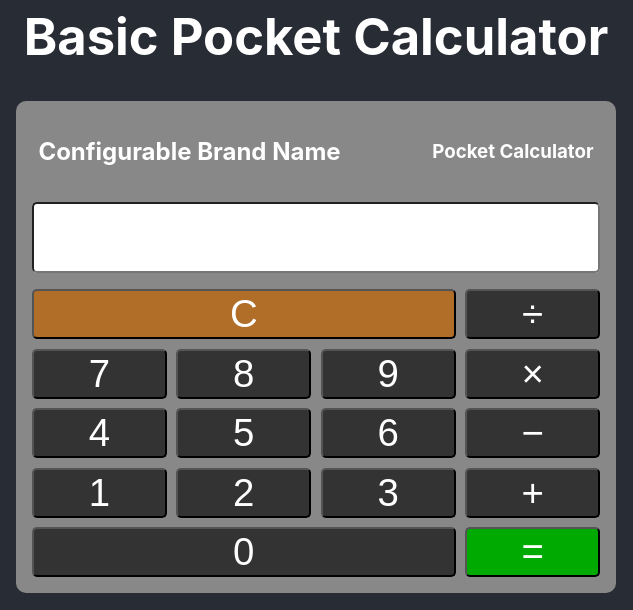
it: Calculator › should be able to perform a correct calculation: 1+1=2
Click the button with test id "One" at [100, 493], box [32,468,167,518]
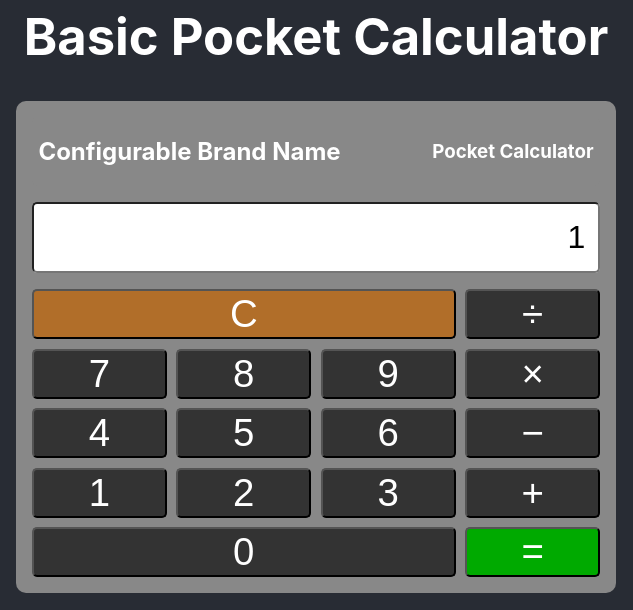
Click the button with test id "Add" at [533, 493], box [465,468,600,518]
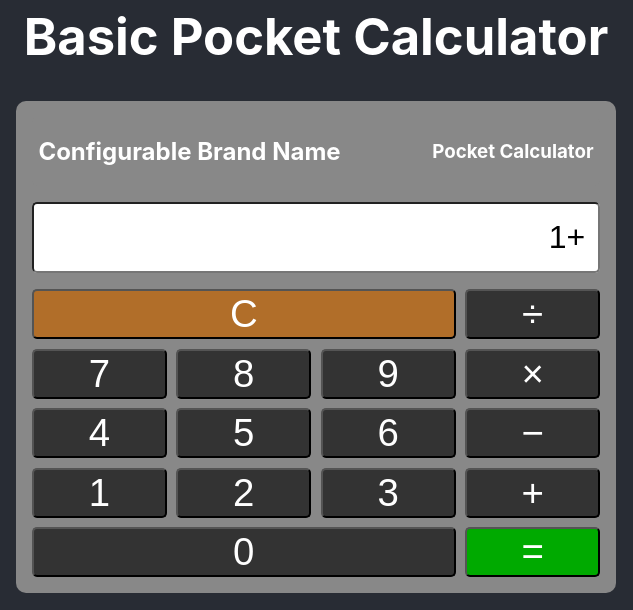
Click the button with test id "One" at [100, 493], box [32,468,167,518]
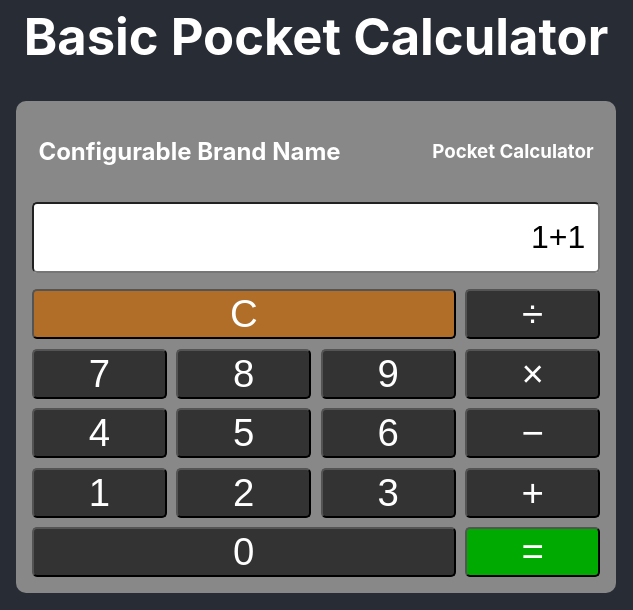
Click the button with test id "Equal" at [533, 552], box [465,527,600,577]
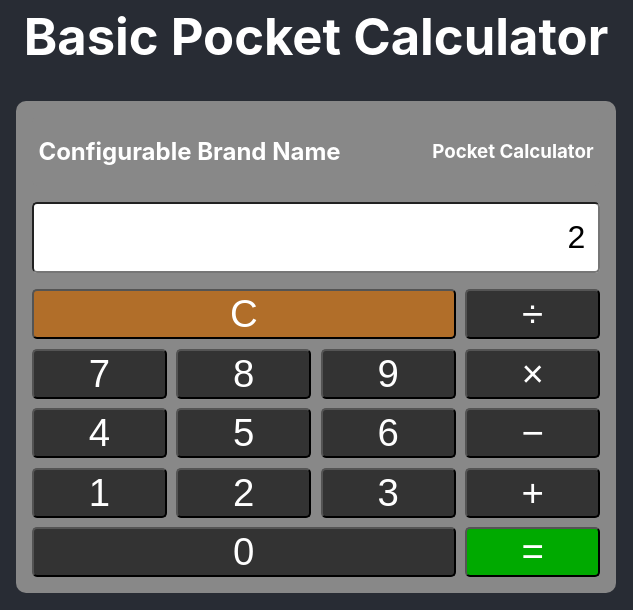
Now the field holds "2", box [32,202,600,273]
